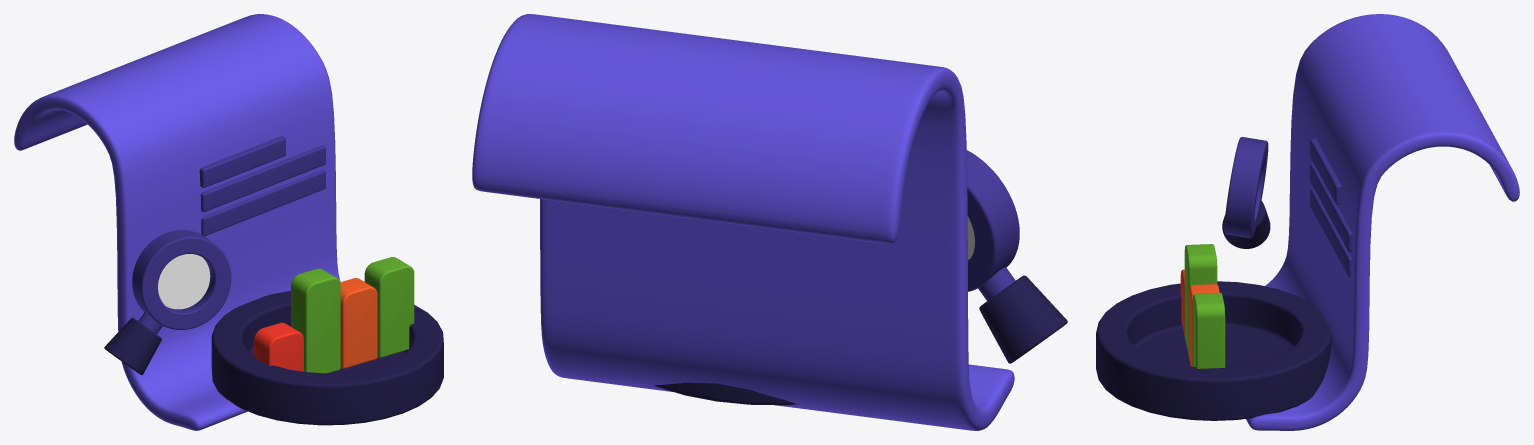
File: Financial Analytics.glb
3 views of the same model, side by side, from view 1: azimuth 30°, elevation 25°; view 2: azimuth 150°, elevation 25°; view 3: azimuth 270°, elevation 25° (orthographic). The views are drawn at different scales.
Visible parts, largest first — view 1: Cylinder.024, Cylinder.023, Cube.024, Cylinder.025, Cube.023, Cylinder.026; view 2: Cylinder.024, Cylinder.025, Cylinder.026, Cylinder.023, Cylinder.027; view 3: Cylinder.024, Cylinder.023, Cube.024, Cylinder.025, Cube.023, Cylinder.026.
Boxes of the visible parts, x1,y1,x2,y2 form: Cylinder.024: [14, 14, 340, 430]; Cylinder.023: [211, 290, 443, 425]; Cube.024: [254, 257, 414, 373]; Cylinder.025: [132, 230, 231, 329]; Cube.023: [199, 136, 325, 236]; Cylinder.026: [104, 317, 161, 375]; Cylinder.024: [472, 14, 1014, 430]; Cylinder.025: [966, 150, 1019, 291]; Cylinder.026: [979, 275, 1067, 363]; Cylinder.023: [655, 382, 795, 405]; Cylinder.027: [978, 267, 1015, 301]; Cylinder.024: [1246, 14, 1519, 430]; Cylinder.023: [1096, 281, 1331, 420]; Cube.024: [1180, 244, 1225, 368]; Cylinder.025: [1224, 137, 1268, 238]; Cube.023: [1310, 138, 1352, 276]; Cylinder.026: [1222, 201, 1270, 248].
Bounding box in the file's own units: 3.45 × 3.03 × 4.09.
